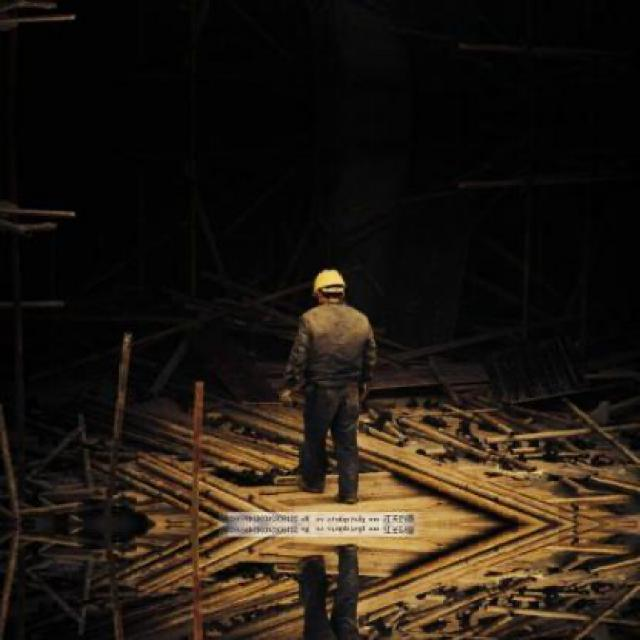helmet: (312, 266, 350, 306)
